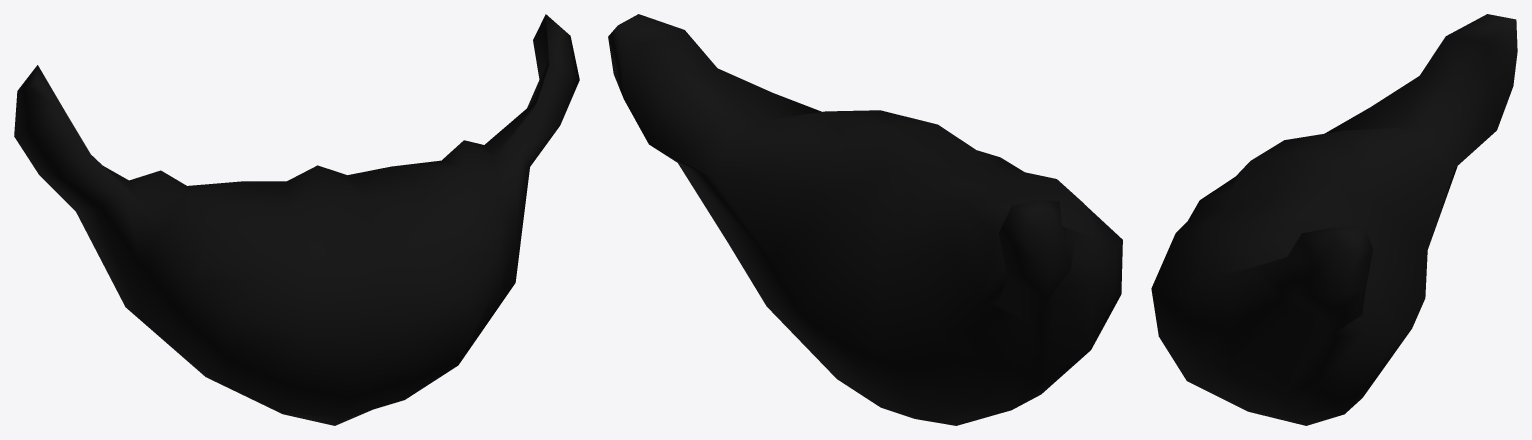
File: barba.fbx
3 renders of one model, left to right at view 1: azimuth 30°, elevation 25°; view 2: azimuth 150°, elevation 25°; view 3: azimuth 270°, elevation 25°, orthographic. The views are drawn at different scales.
Parts seen in each view (by area): view 1: Barbat1; view 2: Barbat1; view 3: Barbat1.
Boxes of the visible parts, box(x1,y1,x2,y2) form: Barbat1: box(14, 14, 579, 425); Barbat1: box(608, 14, 1122, 425); Barbat1: box(1151, 14, 1517, 425).
Bounding box in the file's own units: 822 × 507 × 548.
